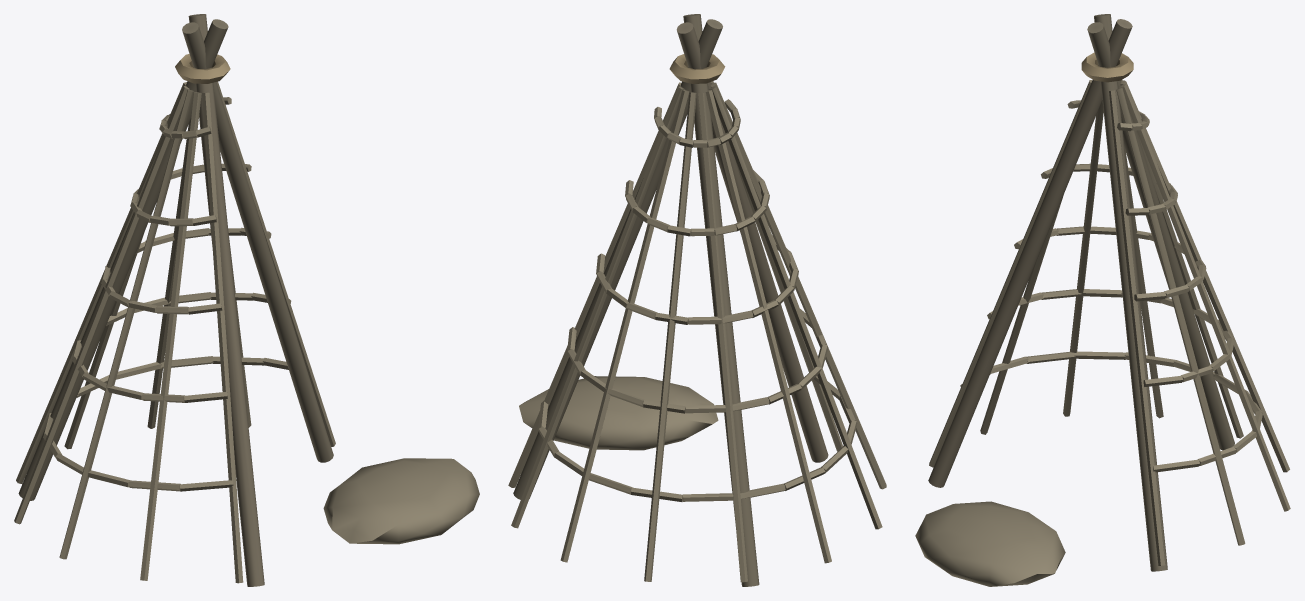
The model's file is drying_tripod_a.glb.
3 renders of one model, left to right at view 1: azimuth 30°, elevation 25°; view 2: azimuth 150°, elevation 25°; view 3: azimuth 270°, elevation 25°, orthographic. The views are drawn at different scales.
Parts seen in each view (by area): view 1: Surface; view 2: Surface; view 3: Surface.
Part boxes in pixels (x1,y1,x2,y2): Surface: (14,14,479,586); Surface: (508,14,886,586); Surface: (915,14,1290,586).
Bounding box in the file's own units: 2.22 × 2.73 × 1.92.
